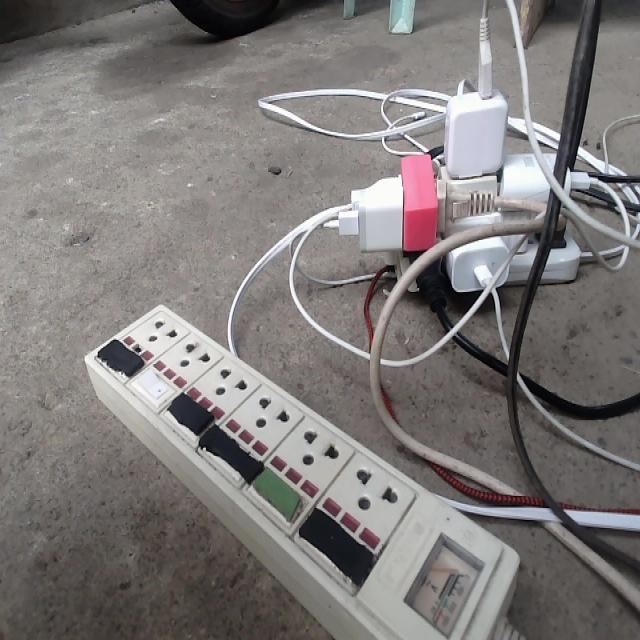-: (278, 11, 614, 344)
